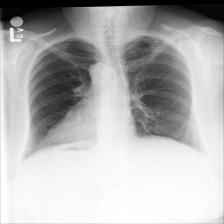normal: (17, 33, 208, 157)
